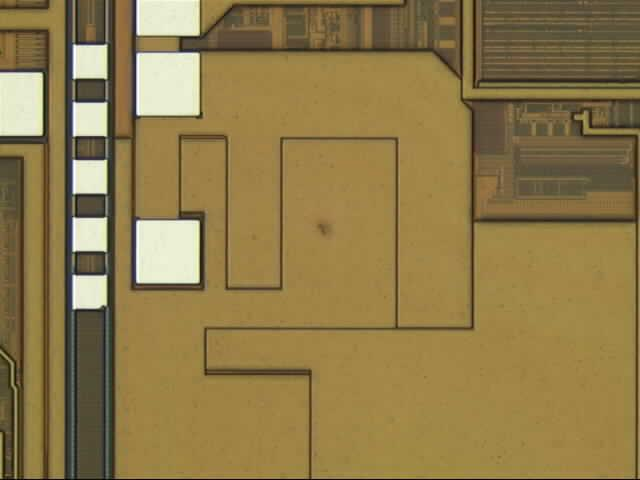PIQ PARTICLE: (310, 214, 342, 246)
